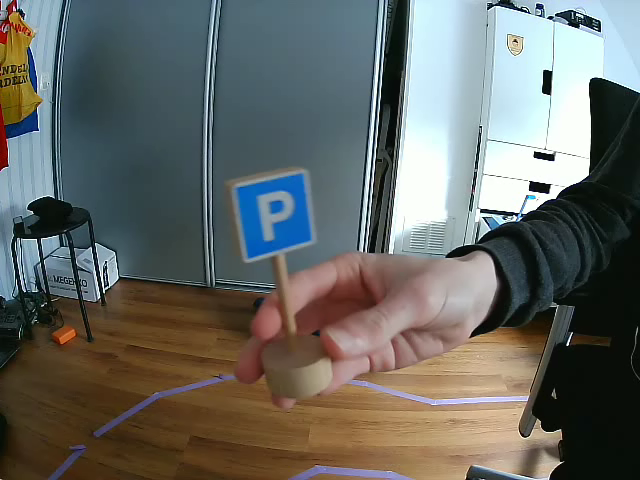parkeerbord: (228, 167, 317, 262)
